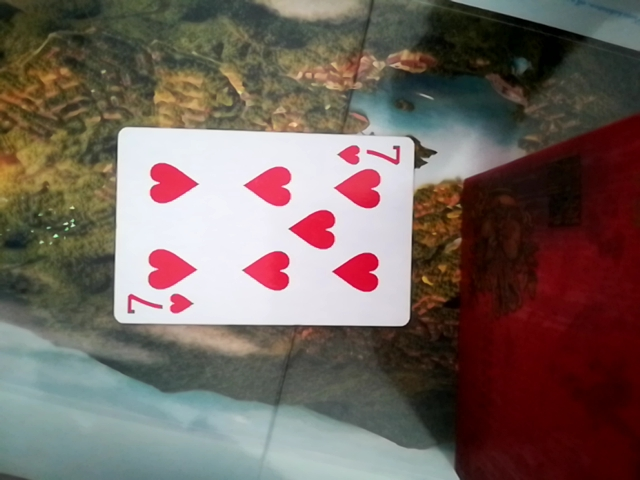hx 7: (107, 128, 421, 329)
